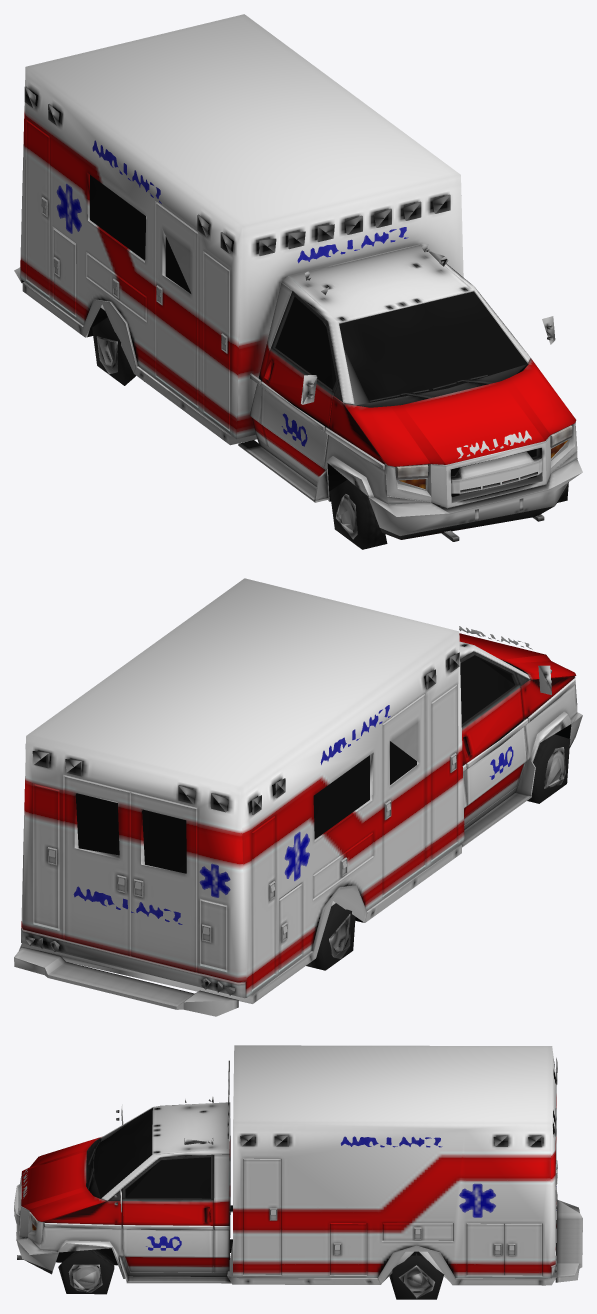
Rendered from svc_ambulance.glb.
The picture shows the model from 3 angles, top to bottom: view 1: azimuth 30°, elevation 25°; view 2: azimuth 150°, elevation 25°; view 3: azimuth 270°, elevation 25°; orthographic projection. The views are drawn at different scales.
Parts seen in each view (by area): view 1: svc_ambulance; view 2: svc_ambulance; view 3: svc_ambulance.
Part boxes in pixels (left/top/right/bottom): svc_ambulance: left=14, top=14, right=582, bottom=549; svc_ambulance: left=14, top=578, right=582, bottom=1016; svc_ambulance: left=14, top=1045, right=582, bottom=1299.
Bounding box in the file's own units: 2.2 × 2.07 × 5.9.
Materials: 1 (1 with a texture image).
